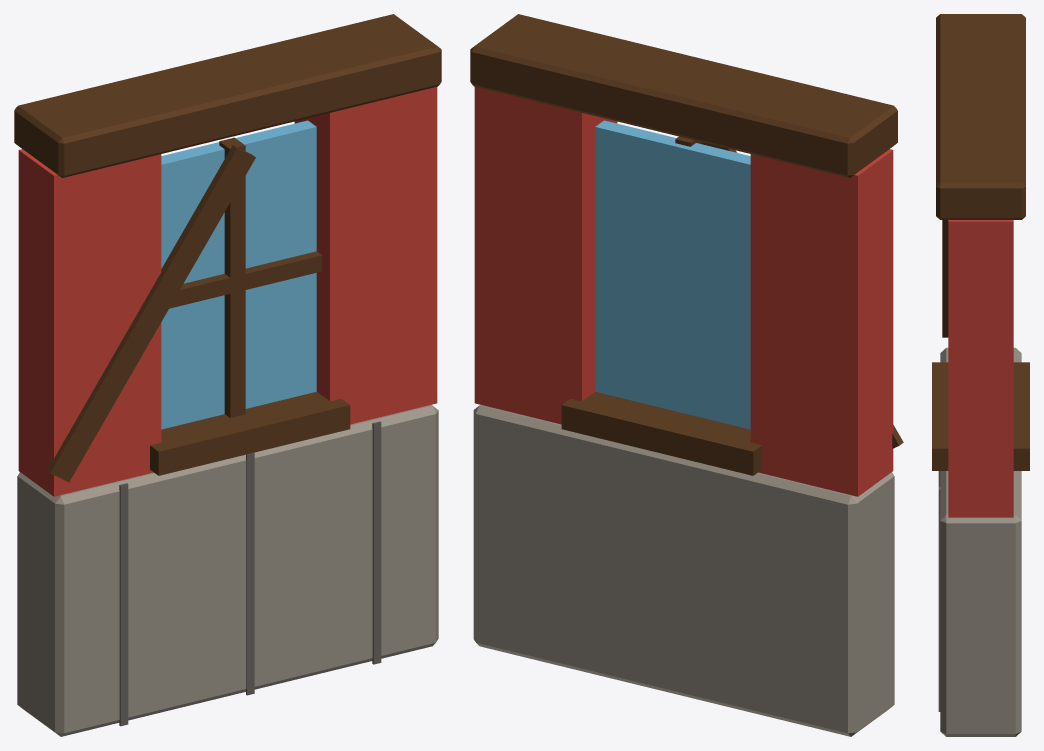
File: PR_Building_Pencere_Siva.fbx
3 renders of one model, left to right at view 1: azimuth 30°, elevation 25°; view 2: azimuth 150°, elevation 25°; view 3: azimuth 270°, elevation 25°, orthographic. The views are drawn at different scales.
Visible parts, largest first — view 1: PR_Building_Pencere_Siva; view 2: PR_Building_Pencere_Siva; view 3: PR_Building_Pencere_Siva.
Part boxes in pixels (x1,y1,x2,y2): PR_Building_Pencere_Siva: (14,14,441,736); PR_Building_Pencere_Siva: (470,14,903,736); PR_Building_Pencere_Siva: (932,14,1029,736).
Size of the model in its own units: 1.02 by 1.5 by 0.24.
1 material, 1 textured.
